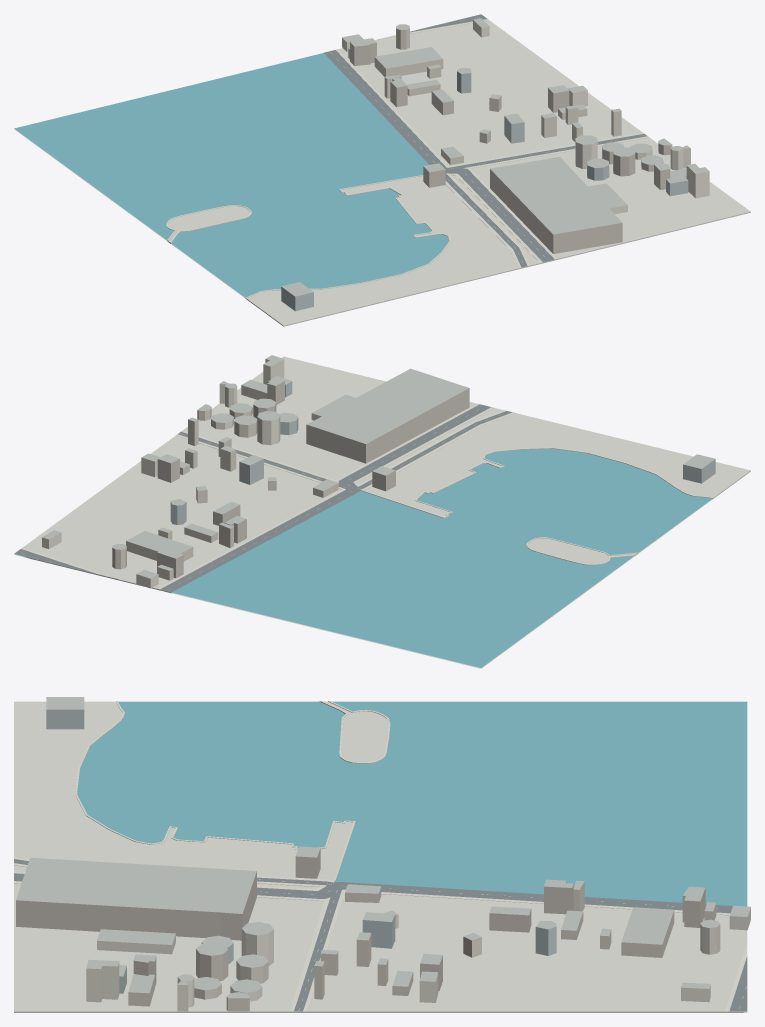
3 views of the same model, one above another, from view 1: azimuth 30°, elevation 25°; view 2: azimuth 150°, elevation 25°; view 3: azimuth 270°, elevation 25° (orthographic). The views are drawn at different scales.
Parts seen in each view (by area): view 1: city; view 2: city; view 3: city.
Boxes of the visible parts, x1,y1,x2,y2 form: city: (14,14,750,326); city: (14,355,750,668); city: (14,697,750,1012).
Size of the model in its own units: 500 by 26 by 502.
